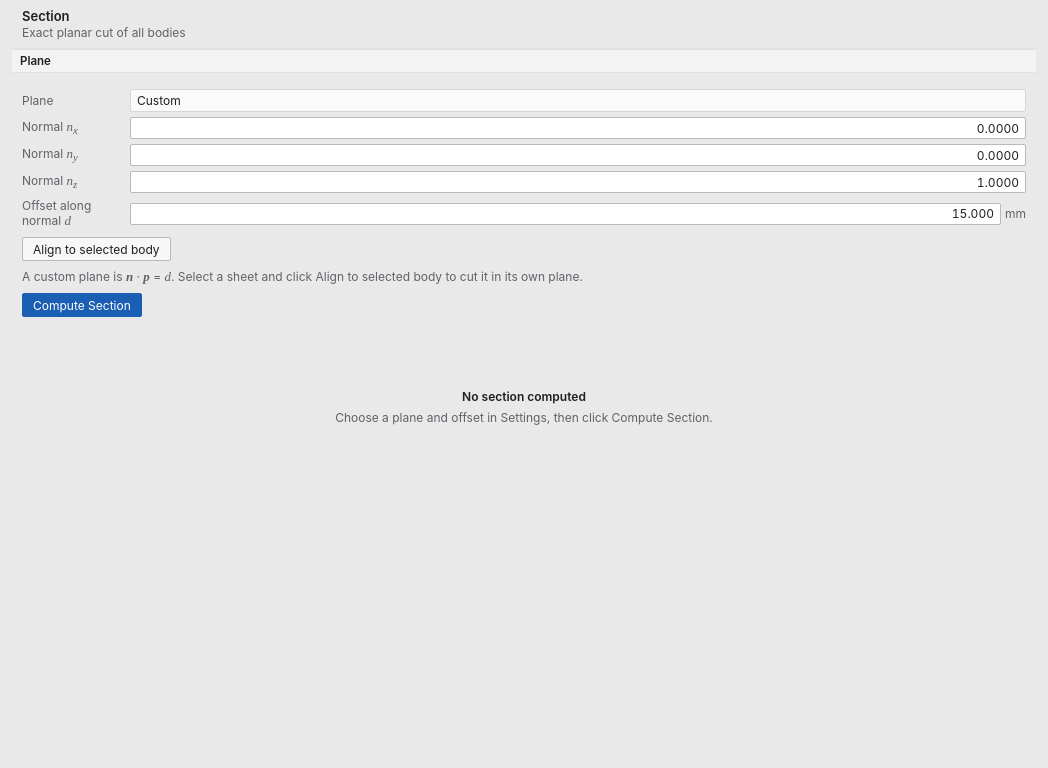
Test: SectionView › aligns a custom plane to the selected body and cuts it there
Click the button "Align to selected body" at (96, 249), box x1=22 y1=237 x2=171 y2=261
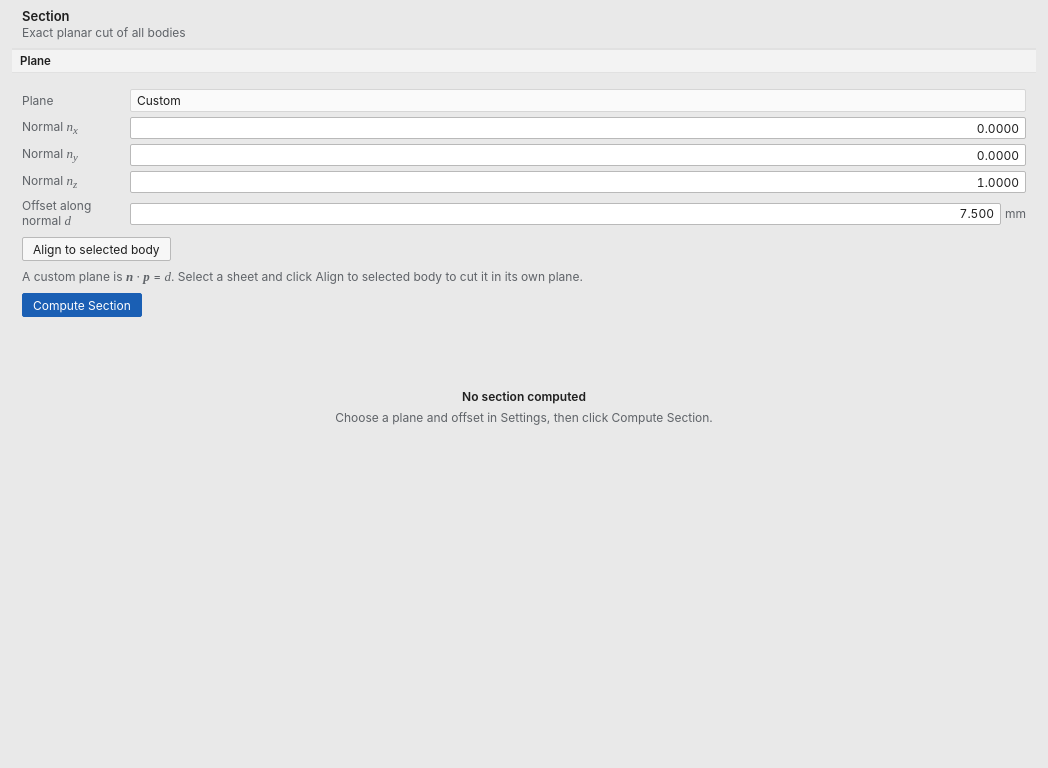
expect the number field labelled "Offset along normal d" holds "7.500": met, box x1=130 y1=202 x2=1001 y2=224
Click the button "Compute Section" at (82, 305), box x1=22 y1=293 x2=142 y2=317
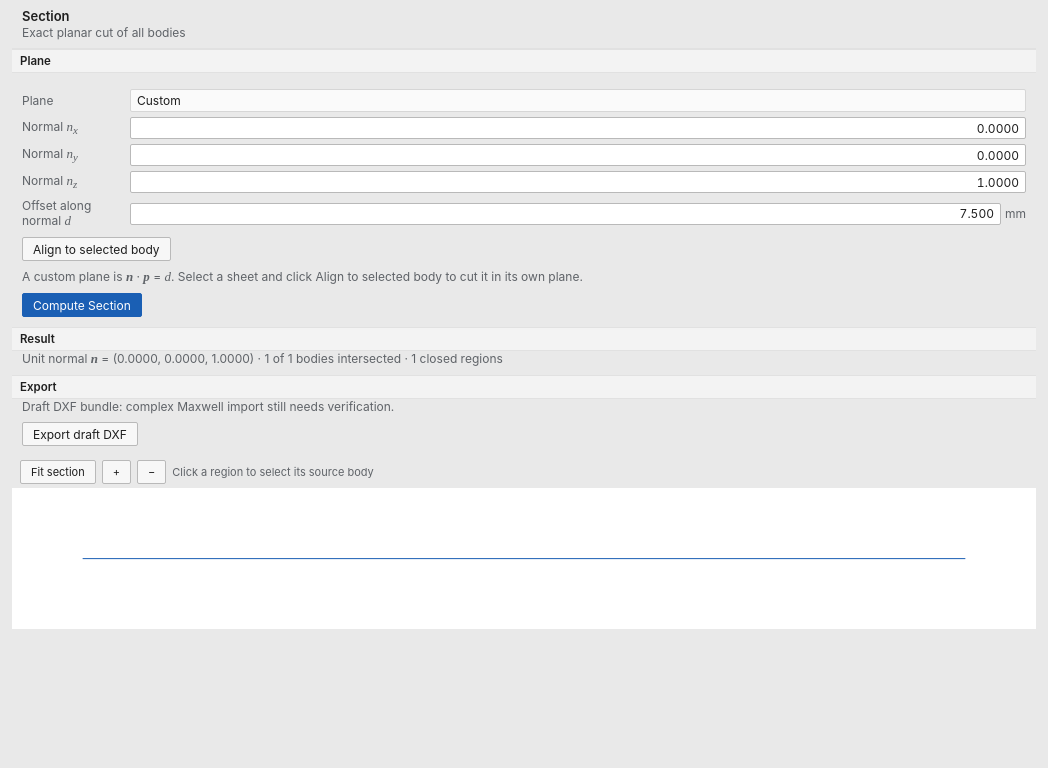
expect the text "1 of 1 bodies intersected" is shown: met, box x1=22 y1=351 x2=503 y2=366
